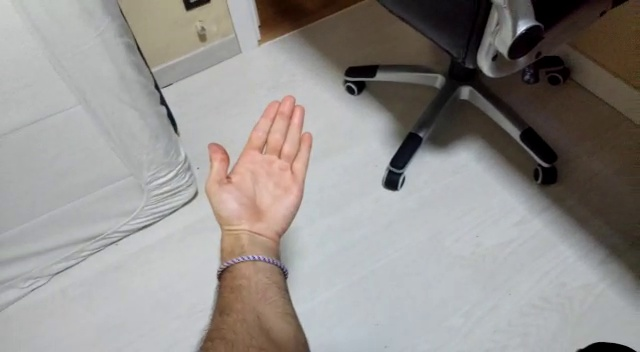Palm: (200, 93, 315, 230)
